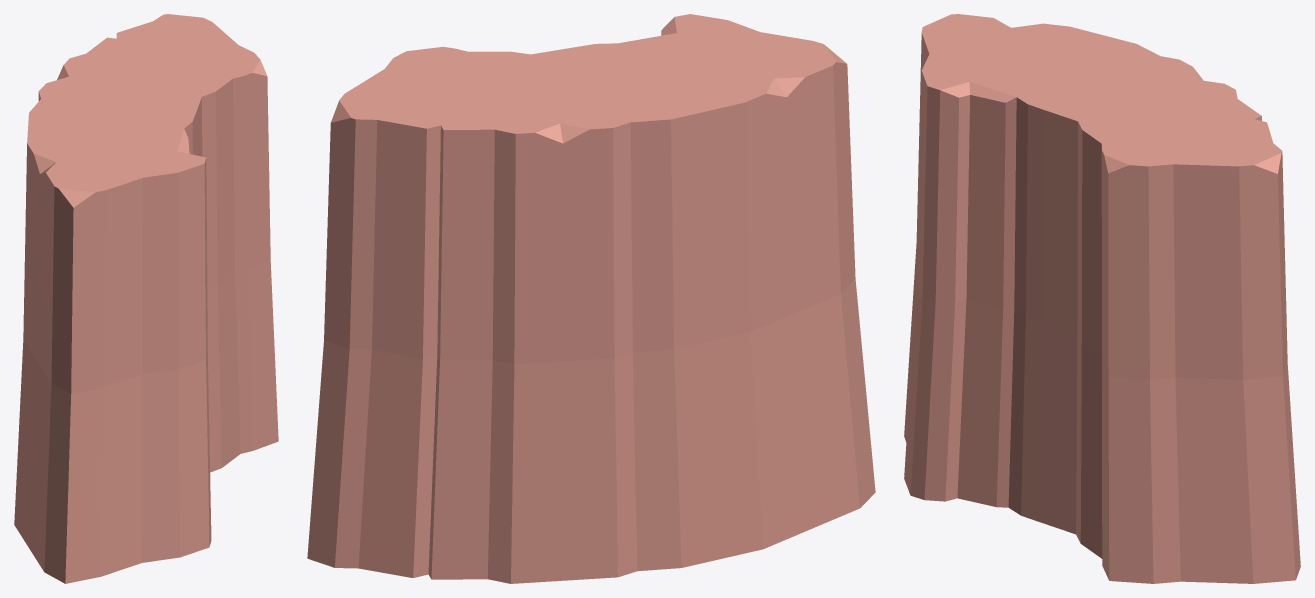
The model's file is SuperGrid_RingQuarter_023_Vlad.fbx.
3 views of the same model, side by side, from view 1: azimuth 30°, elevation 25°; view 2: azimuth 150°, elevation 25°; view 3: azimuth 270°, elevation 25° (orthographic). The views are drawn at different scales.
Visible parts, largest first — view 1: SuperGrid_RingQuarter.023; view 2: SuperGrid_RingQuarter.023; view 3: SuperGrid_RingQuarter.023.
Part boxes in pixels (x1=…): SuperGrid_RingQuarter.023: x1=14, y1=14, x2=278, y2=583; SuperGrid_RingQuarter.023: x1=307, y1=14, x2=875, y2=583; SuperGrid_RingQuarter.023: x1=904, y1=14, x2=1300, y2=583.
Bounding box in the file's own units: 437 × 500 × 437.
